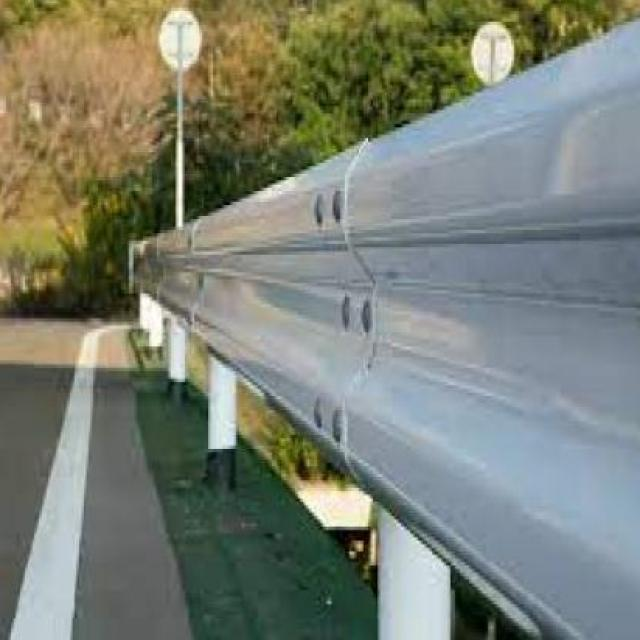Guard rail: (129, 11, 640, 638)
